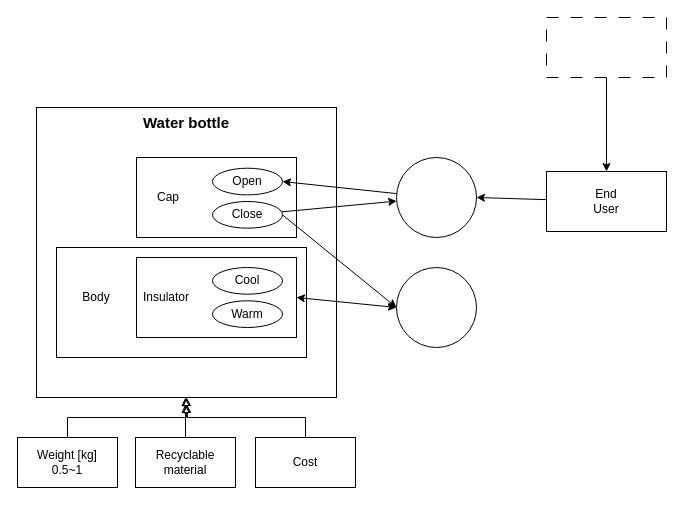
This 684x505 diagram has some shape labels left out. The shapes that lost their labels are listed below. From the top down, each one's centre as x and y in pixels, then its label:
At (606,47): "Weather".
At (436,197): "Drinking".
At (436,307): "Containing".
